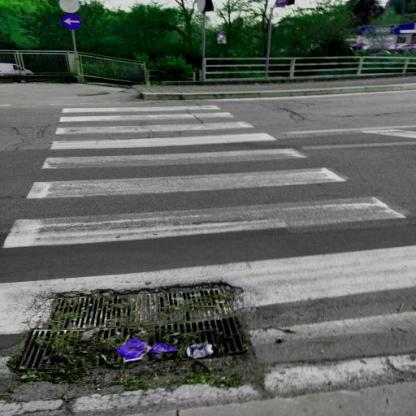crosswalk: (11, 146, 372, 202), (53, 104, 236, 125)
